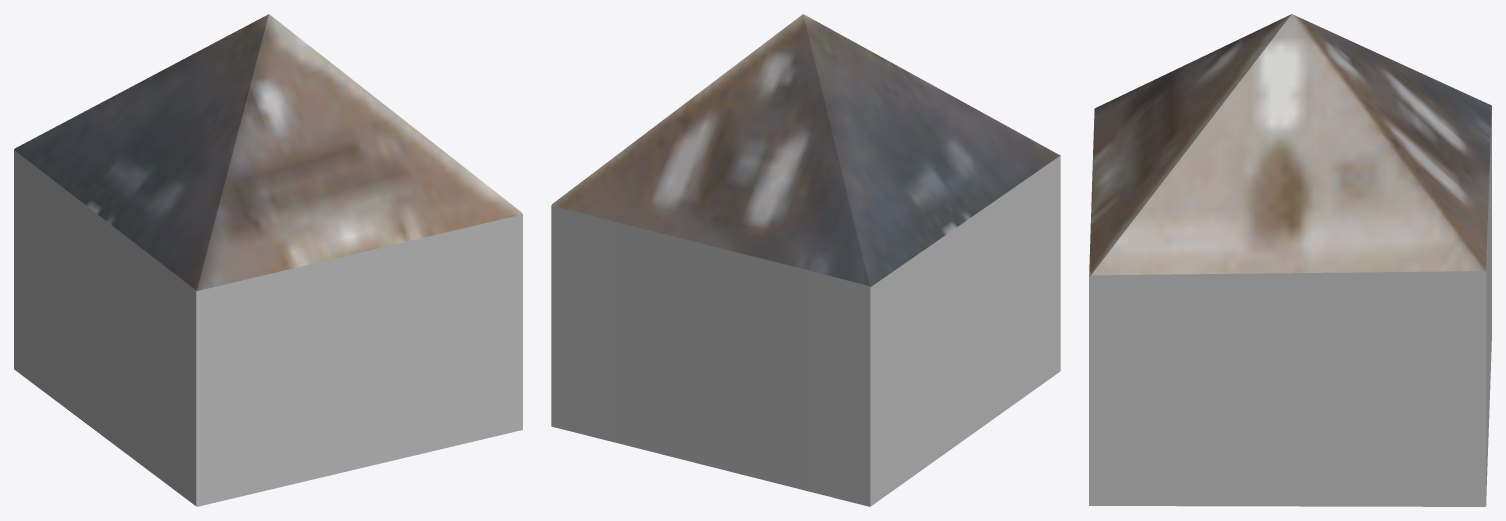
The model's file is DEBW_0010007Txf0.gltf.
3 renders of one model, left to right at view 1: azimuth 30°, elevation 25°; view 2: azimuth 150°, elevation 25°; view 3: azimuth 270°, elevation 25°, orthographic. The views are drawn at different scales.
Parts seen in each view (by area): view 1: Z_UP; view 2: Z_UP; view 3: Z_UP.
Boxes of the visible parts, <box> form: Z_UP: <box>14,14,522,506</box>; Z_UP: <box>551,14,1060,506</box>; Z_UP: <box>1089,14,1491,506</box>.
Size of the model in its own units: 11.1 by 12.54 by 11.18.
2 materials, 1 textured.
